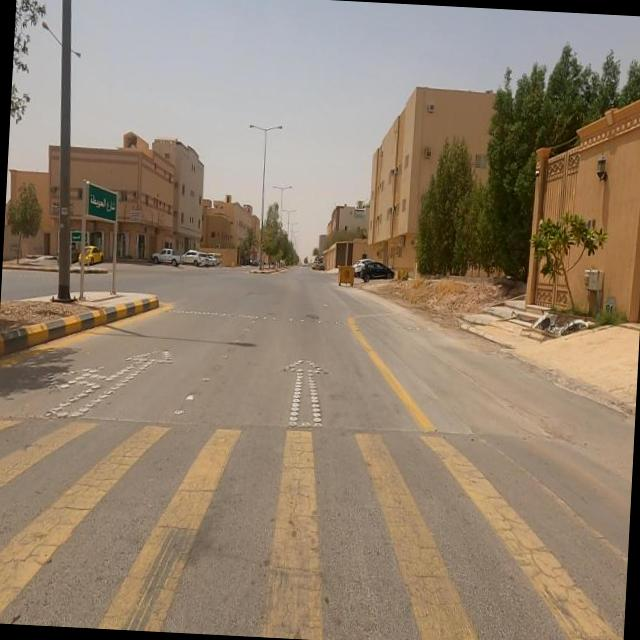debris: (506, 279, 614, 367)
